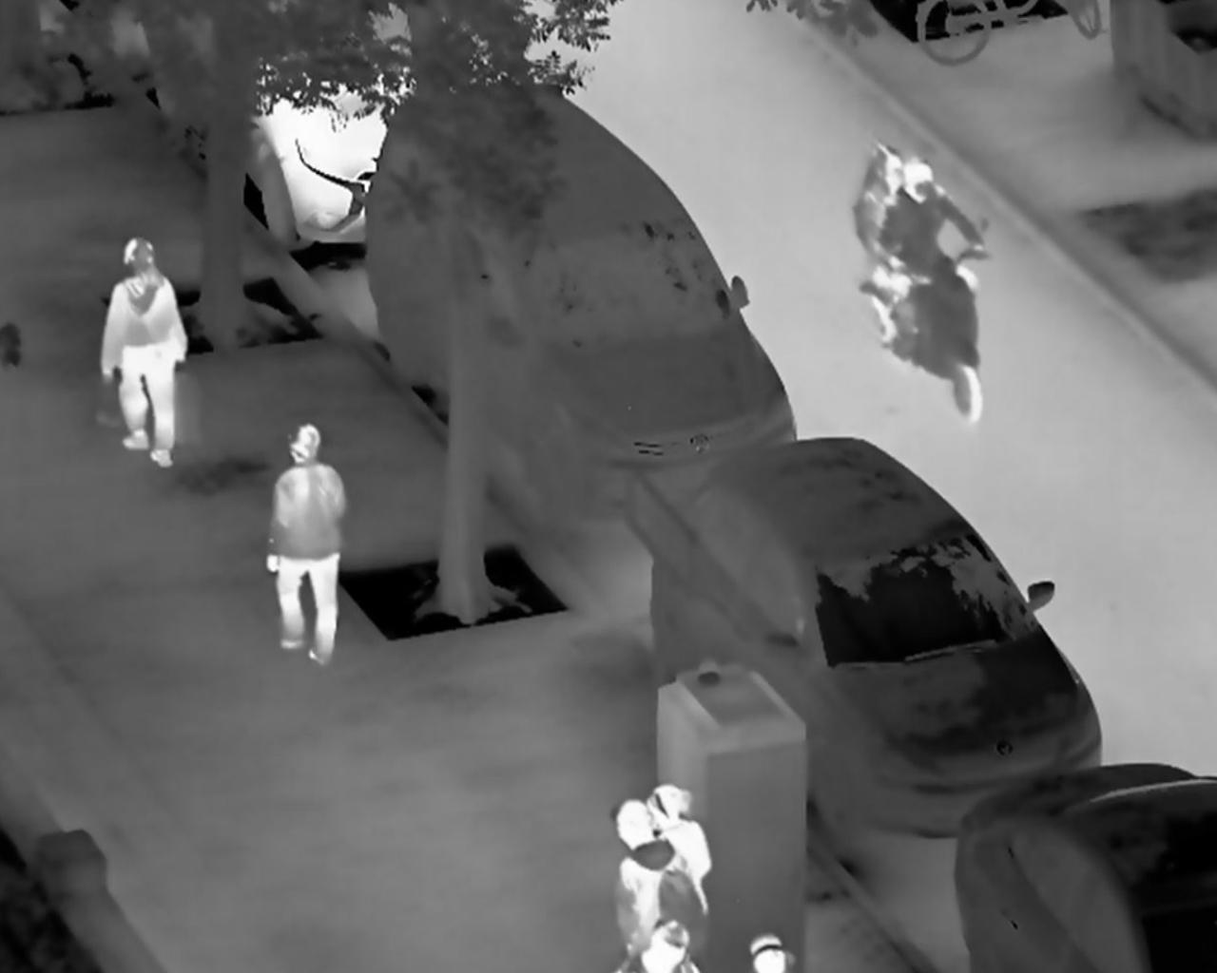person: (96, 235, 188, 473), (261, 422, 348, 671), (879, 157, 989, 351), (610, 793, 697, 966), (851, 143, 921, 357), (641, 783, 714, 922)
